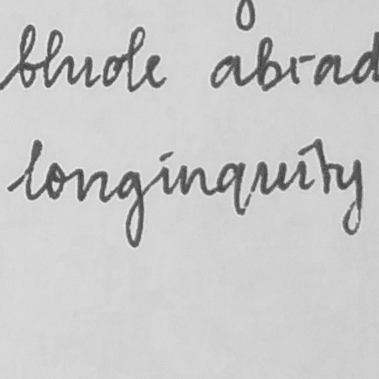g: (114, 169, 148, 249)
i: (294, 145, 313, 190), (155, 150, 173, 197)
l: (22, 138, 42, 202)
n: (73, 165, 110, 204), (176, 162, 210, 198)
o: (42, 159, 67, 200)
q: (213, 160, 249, 217)
u: (253, 157, 289, 197)
y: (332, 156, 367, 237)
